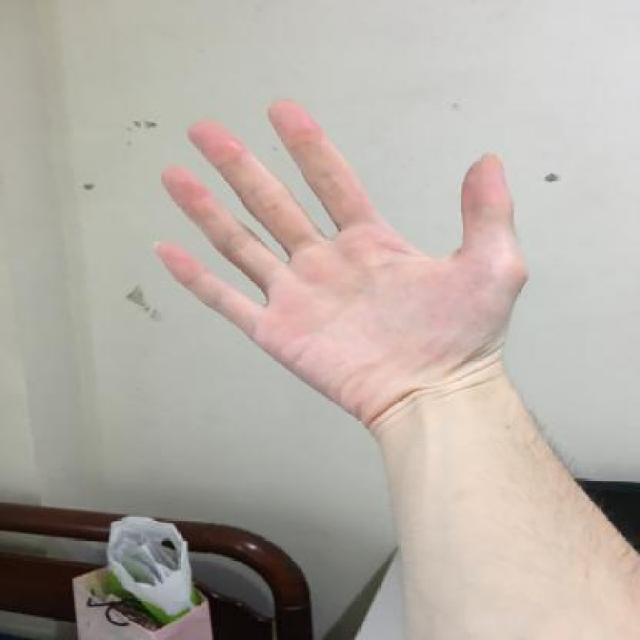hand: (150, 102, 536, 436)
